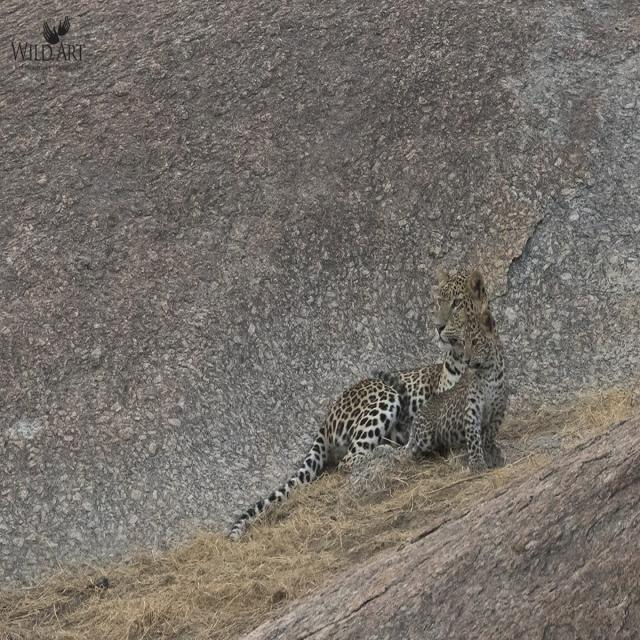Leopard: (229, 268, 506, 538)
